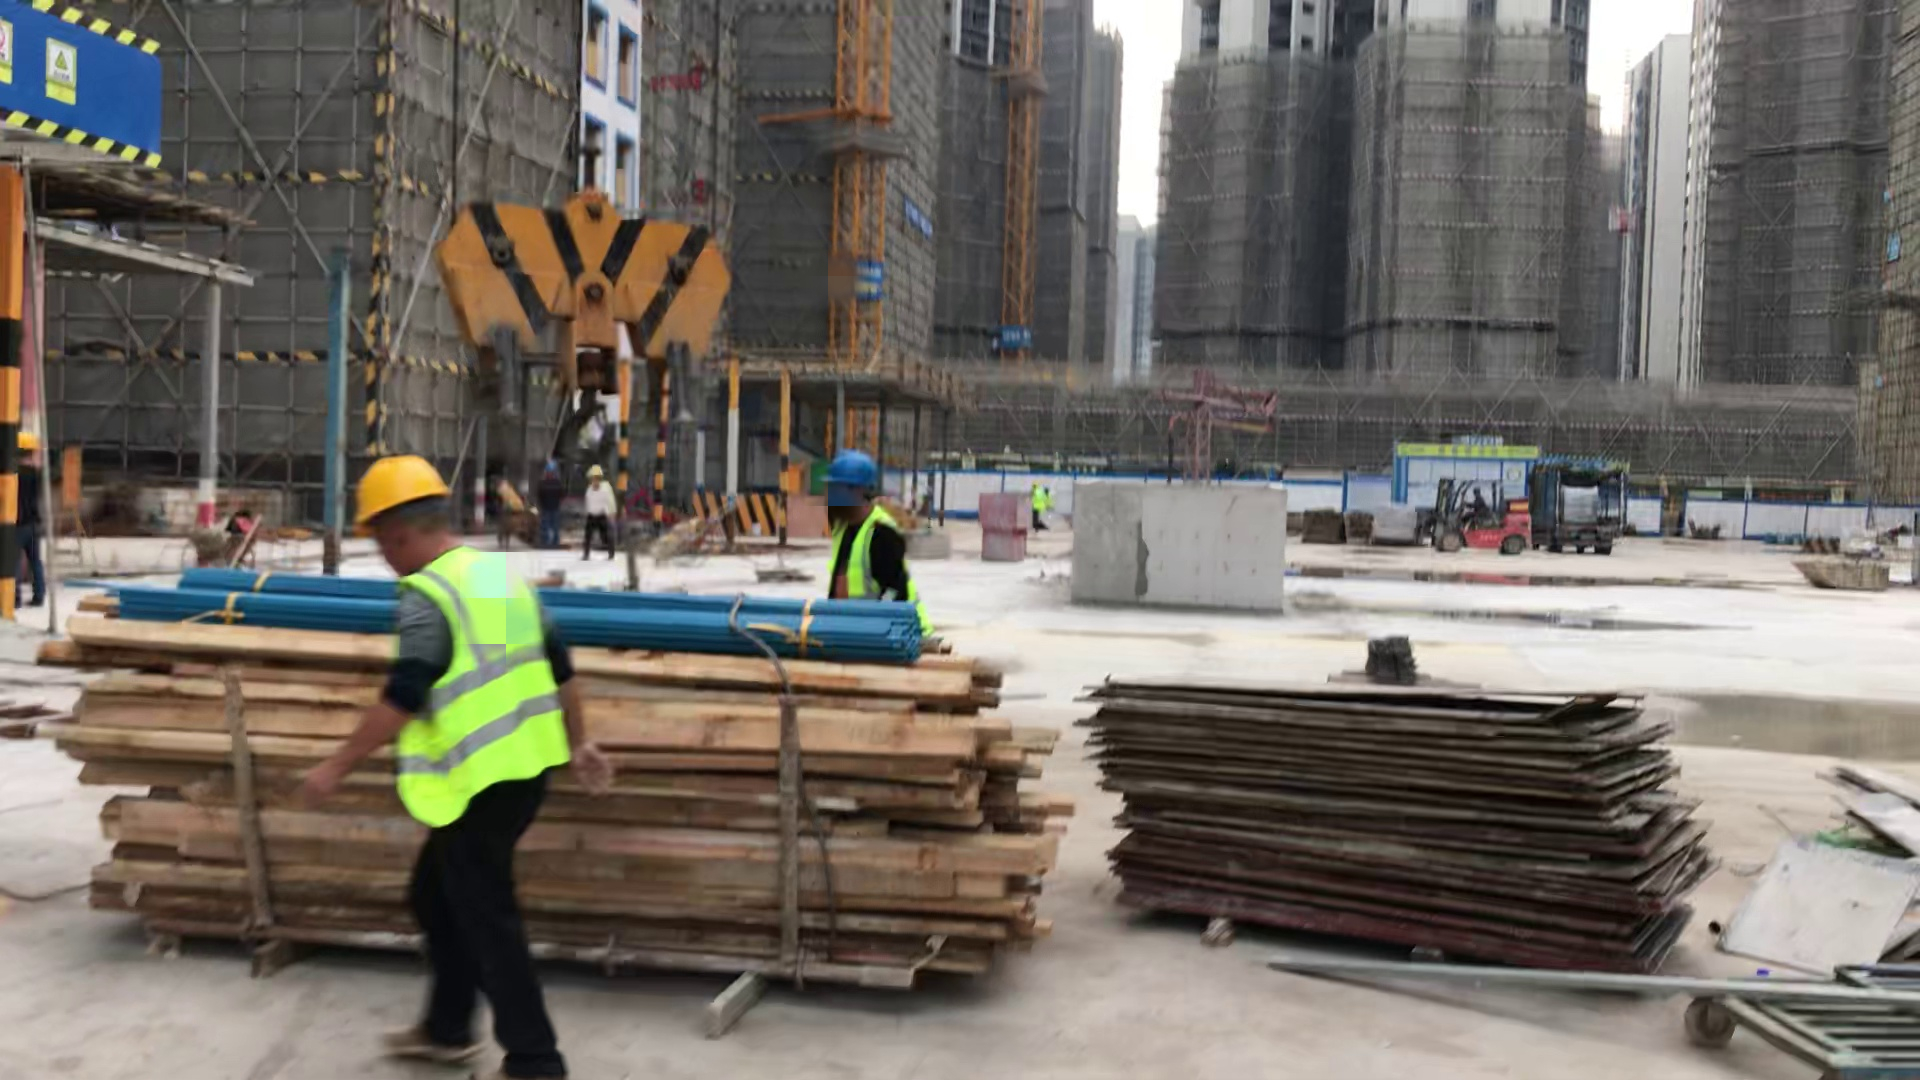board: (1058, 655, 1700, 1004)
handcart: (193, 520, 278, 568)
helmet: (319, 459, 477, 521), (784, 426, 882, 488), (566, 458, 621, 486)
hook: (446, 184, 752, 418)
hopper: (1794, 550, 1885, 600)
person: (288, 461, 584, 1080), (802, 436, 936, 628), (586, 465, 627, 560), (1459, 476, 1488, 522)
vest: (388, 566, 563, 785), (828, 514, 902, 593)
wood: (84, 629, 972, 958)
